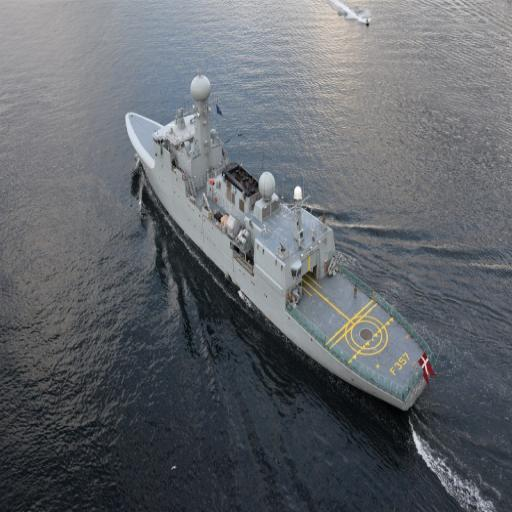Fragata: (123, 64, 449, 422)
